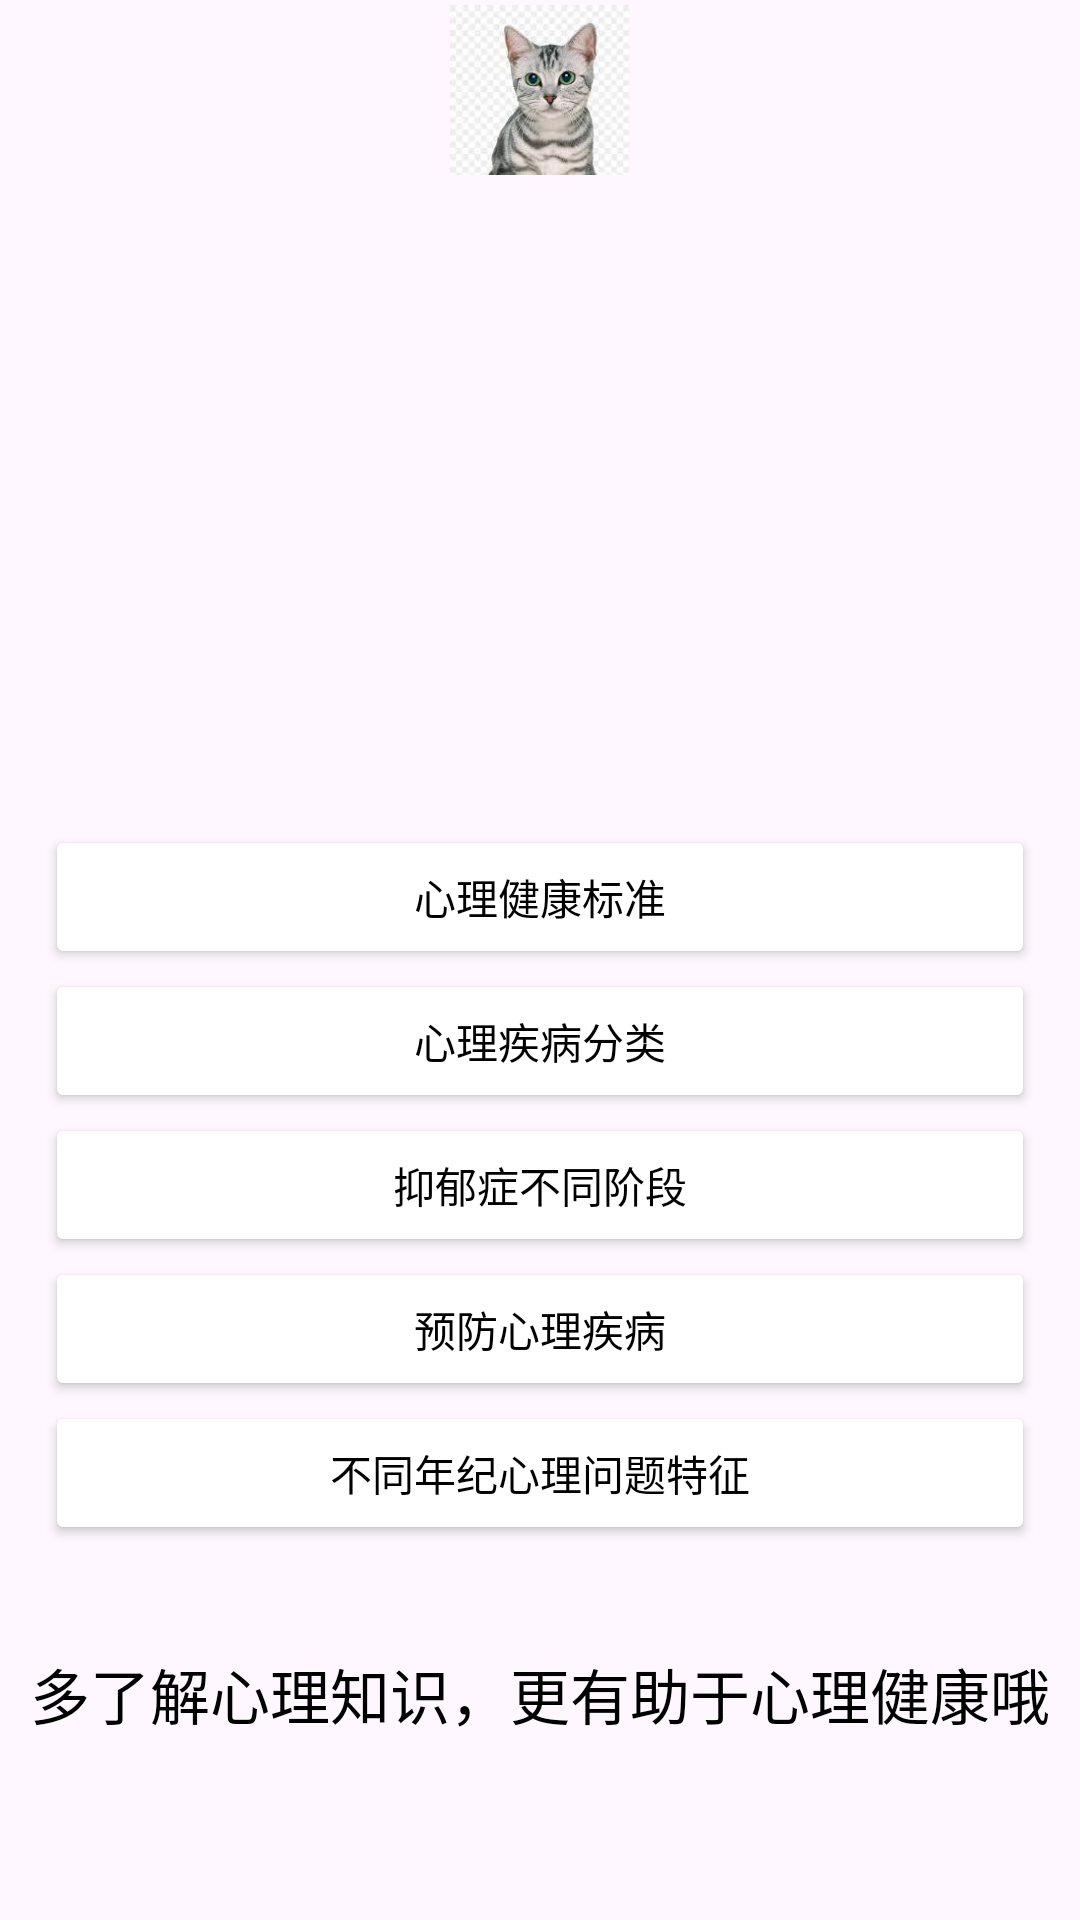

Icons on this 1080×1920 Android screen, each with its box as (x1, y1, x2, y2):
cat: (450, 5, 630, 175)
